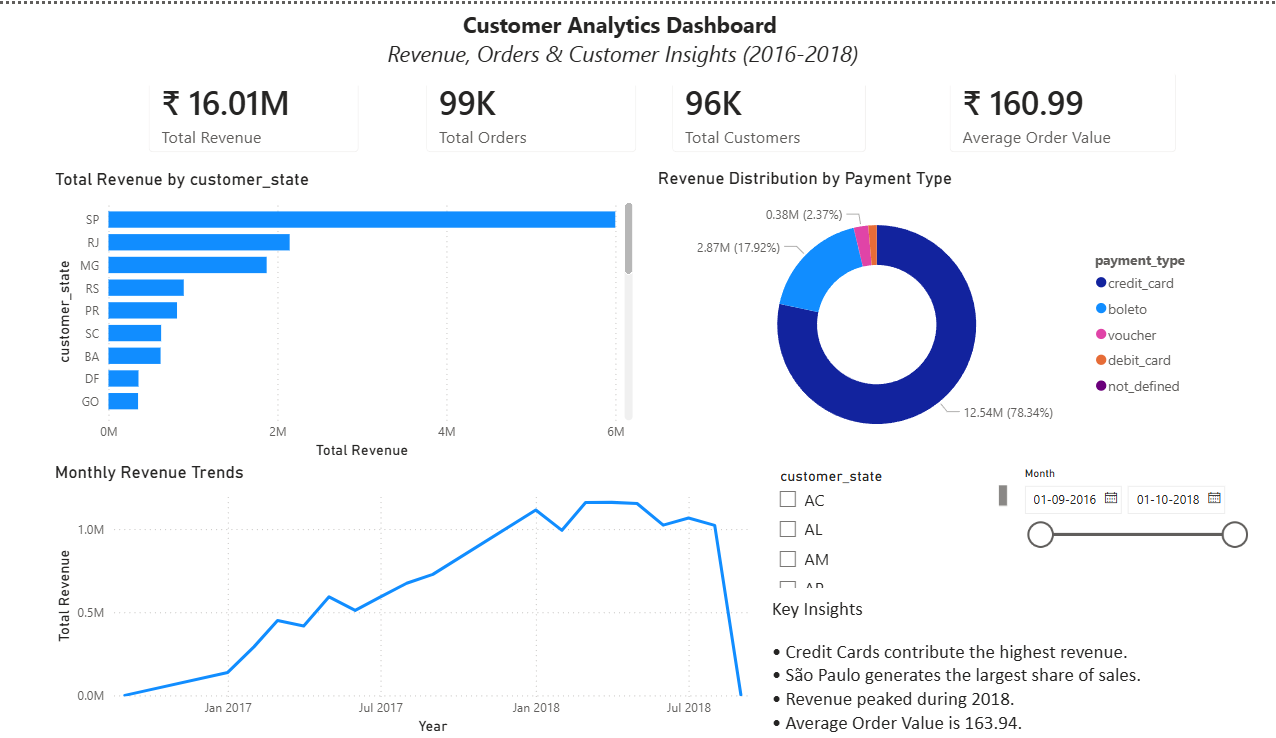

This screenshot's page, from the dashboard's own definition file:
{"tool":"powerbi","page":{"name":"Page 1","canvas":[1280,720],"ordinal":0},"visuals":[{"type":"cardVisual","fields":{"Data":["powerbi_customer_analysis.Total Revenue"]},"box":[144.7,50.3,240,112],"z":0},{"type":"cardVisual","fields":{"Data":["powerbi_customer_analysis.Total Orders","powerbi_customer_analysis.Total Orders"]},"box":[416.7,50.3,240,112],"z":1},{"type":"cardVisual","fields":{"Data":["powerbi_customer_analysis.Total Customers","powerbi_customer_analysis.Total Customers"]},"box":[656.7,50.3,224,112],"z":2},{"type":"cardVisual","fields":{"Data":["powerbi_customer_analysis.Average Order Value"]},"box":[928.7,50.3,256,112],"z":3},{"type":"clusteredBarChart","fields":{"Y":["powerbi_customer_analysis.Total Revenue"],"Category":["powerbi_customer_analysis.customer_state"]},"box":[64.7,162.3,576,288],"z":4},{"type":"donutChart","title":"Revenue Distribution by Payment Type","fields":{"Category":["powerbi_customer_analysis.payment_type"],"Y":["powerbi_customer_analysis.Total Revenue"]},"box":[656,160,544,288],"z":5},{"type":"textbox","box":[768,576,512,144],"z":8},{"type":"slicer","fields":{"Values":["powerbi_customer_analysis.customer_state"]},"box":[768,448,240,128],"z":9},{"type":"slicer","fields":{"Values":["powerbi_customer_analysis.Month"]},"box":[1008,448,240,128],"z":10},{"type":"textbox","box":[80,0,1088,80],"z":11},{"type":"lineChart","title":"Monthly Revenue Trends","fields":{"Y":["powerbi_customer_analysis.Total Revenue"],"Category":["powerbi_customer_analysis.Month.Variation.Date Hierarchy.Year","powerbi_customer_analysis.Month.Variation.Date Hierarchy.Month"]},"box":[64,448,704,272],"z":12}]}

Visuals, with their boxes in screenshot pixels (x1, y1, x2, y2), scaled from the page's 1280x720 canvas onto the 1276x738 screenshot:
cardVisual - powerbi_customer_analysis.Total Revenue: <bbox>144, 52, 383, 166</bbox>
cardVisual - powerbi_customer_analysis.Total Orders x powerbi_customer_analysis.Total Orders: <bbox>415, 52, 655, 166</bbox>
cardVisual - powerbi_customer_analysis.Total Customers x powerbi_customer_analysis.Total Customers: <bbox>655, 52, 878, 166</bbox>
cardVisual - powerbi_customer_analysis.Average Order Value: <bbox>926, 52, 1181, 166</bbox>
clusteredBarChart - powerbi_customer_analysis.Total Revenue x powerbi_customer_analysis.customer_state: <bbox>64, 166, 639, 462</bbox>
"Revenue Distribution by Payment Type" donutChart: <bbox>654, 164, 1196, 459</bbox>
textbox: <bbox>766, 590, 1275, 737</bbox>
slicer - powerbi_customer_analysis.customer_state: <bbox>766, 459, 1005, 590</bbox>
slicer - powerbi_customer_analysis.Month: <bbox>1005, 459, 1244, 590</bbox>
textbox: <bbox>80, 0, 1164, 82</bbox>
"Monthly Revenue Trends" lineChart: <bbox>64, 459, 766, 737</bbox>
